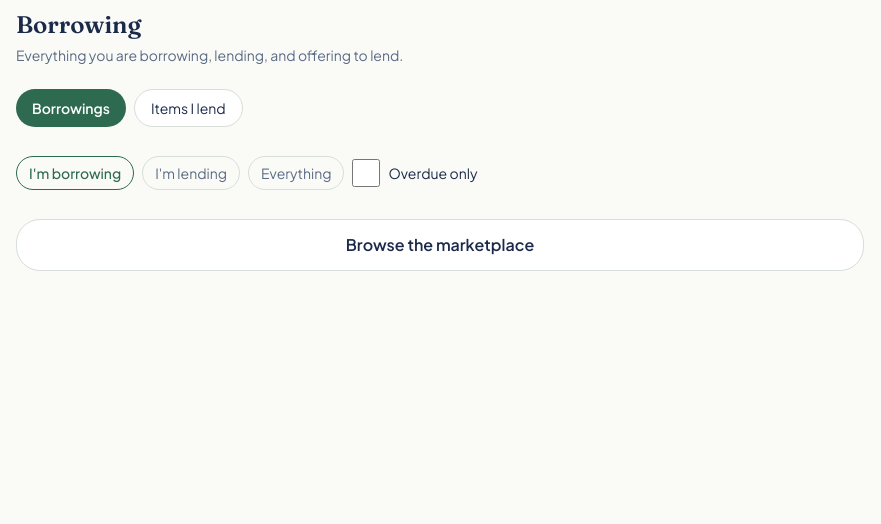
Test: BorrowLists › lists the items the member lends
The image size is (881, 524).
Click the button "Items I lend": (188, 108) [134,89,243,127]
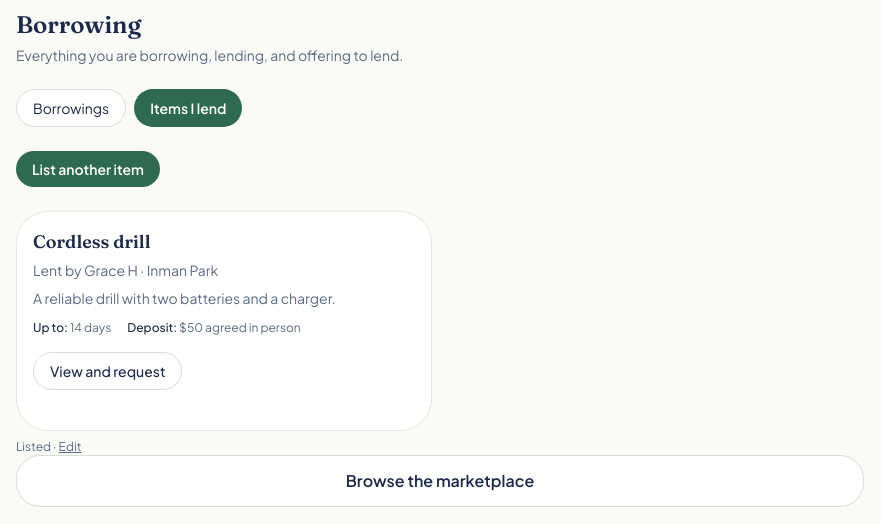
Expected: the heading "Cordless drill" is shown, [33,230,150,253]
